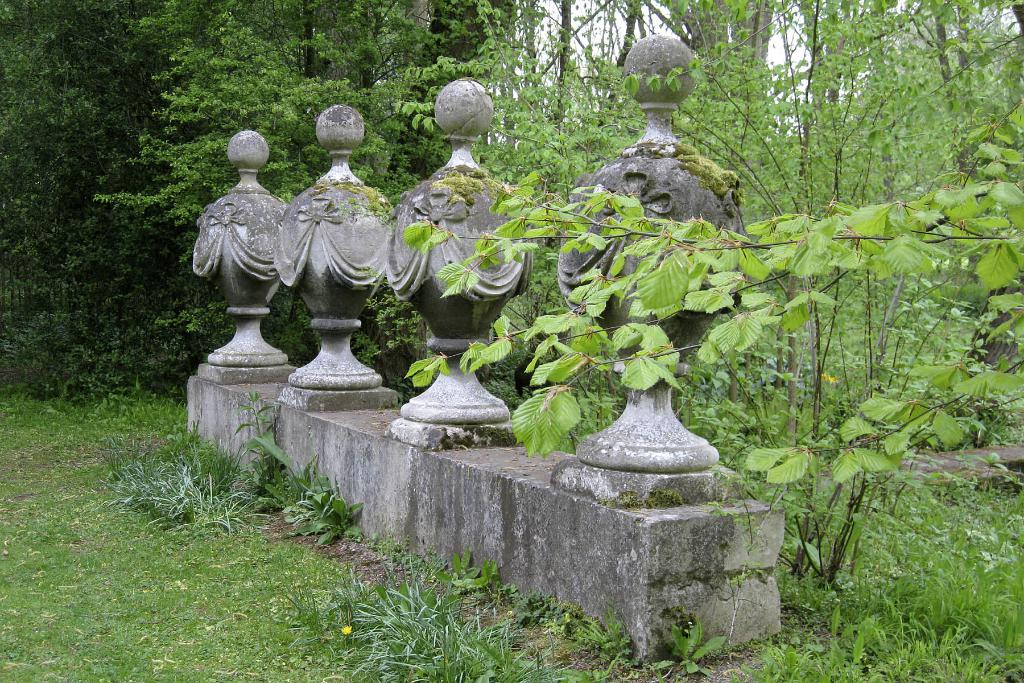Tree: (0, 0, 1023, 401)
